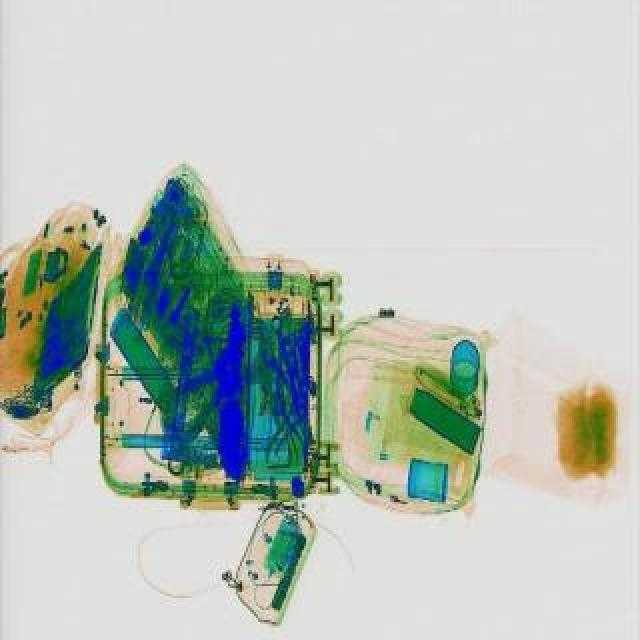wrench: (264, 392, 308, 462)
